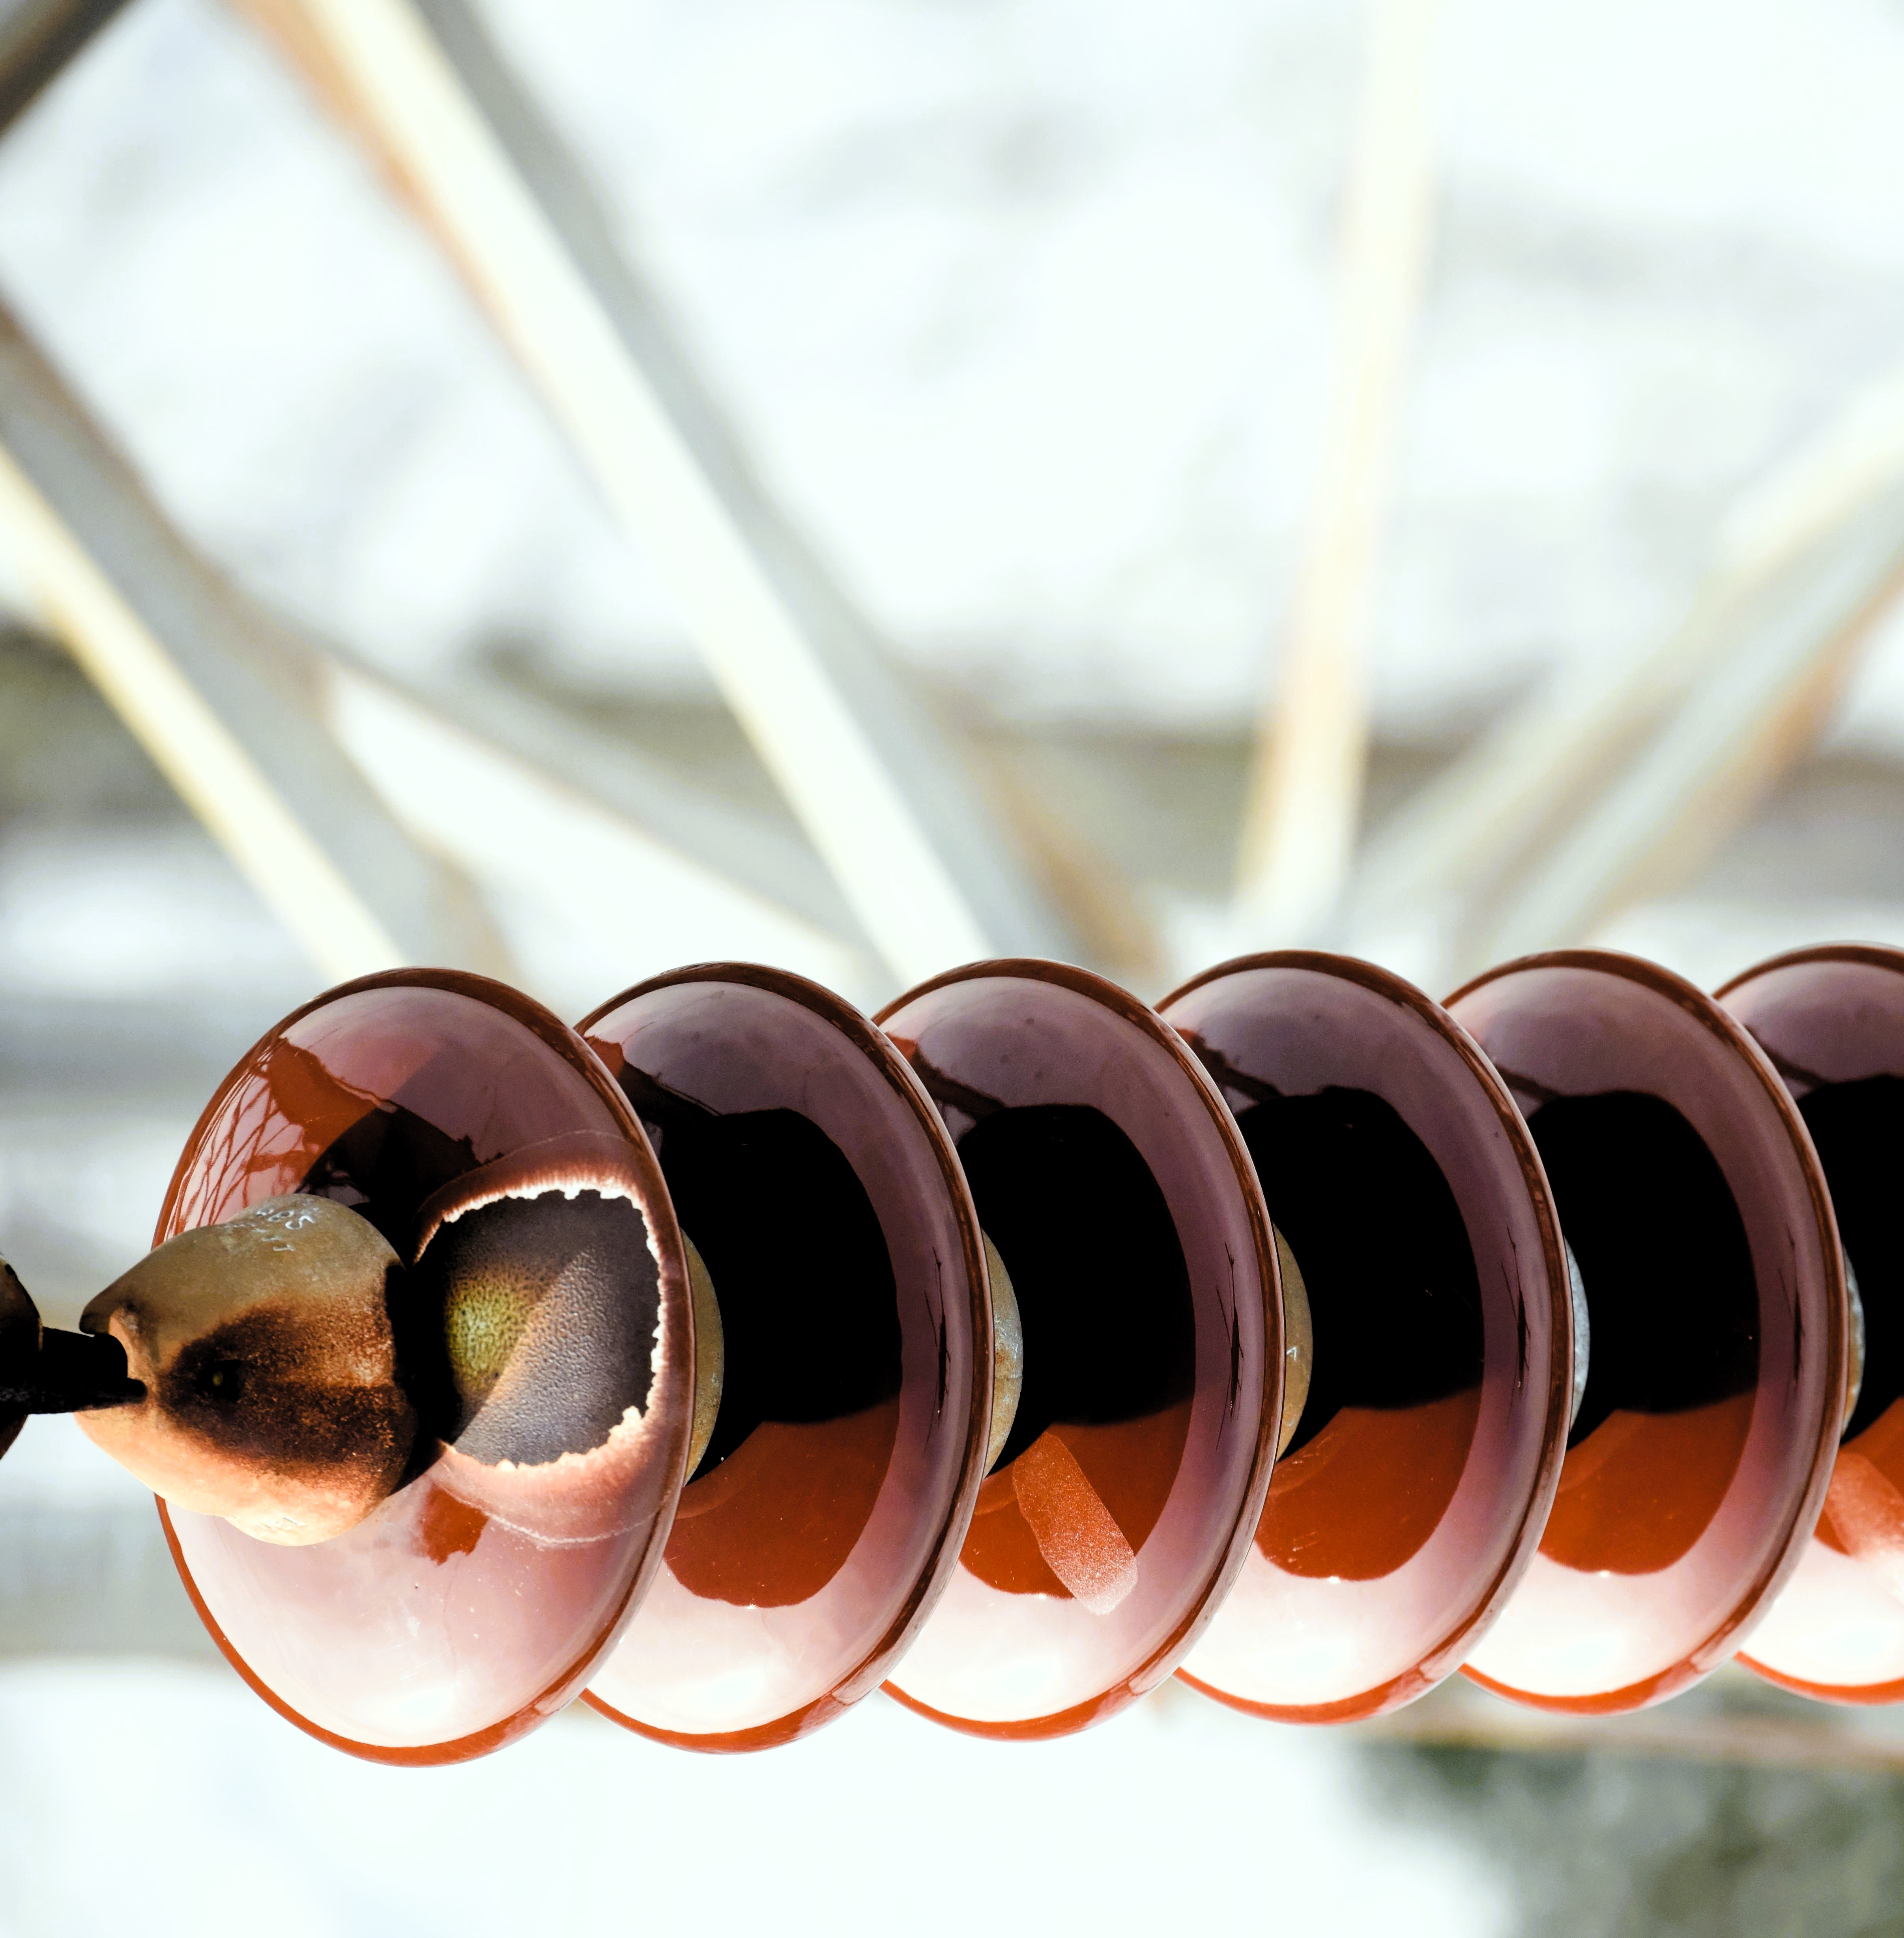Insulator flashover: (105, 959, 703, 1772)
